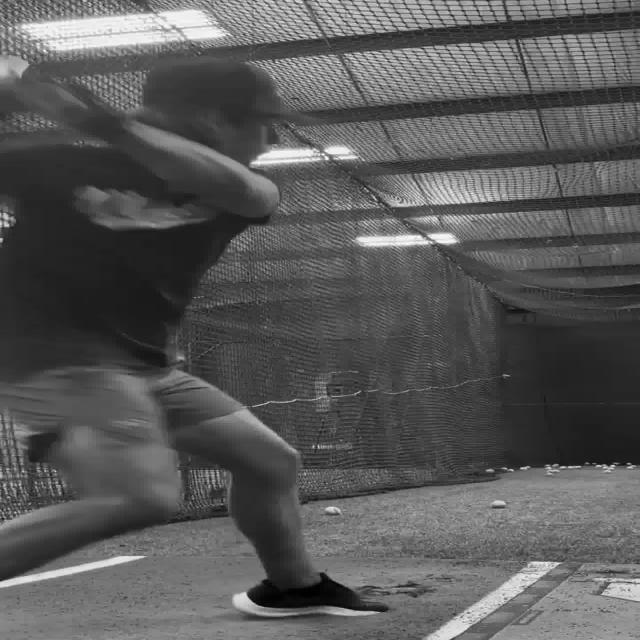baseball: (323, 506, 341, 515), (490, 500, 506, 508)
shoe: (232, 572, 390, 618)
